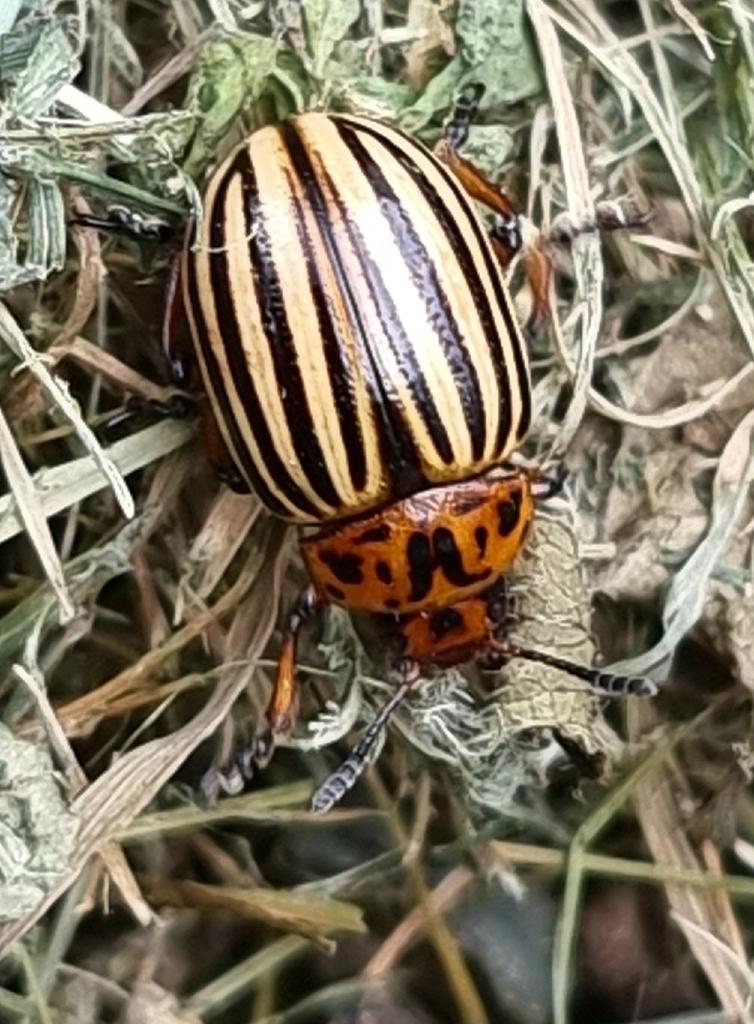potato_beetle: (101, 60, 702, 865)
